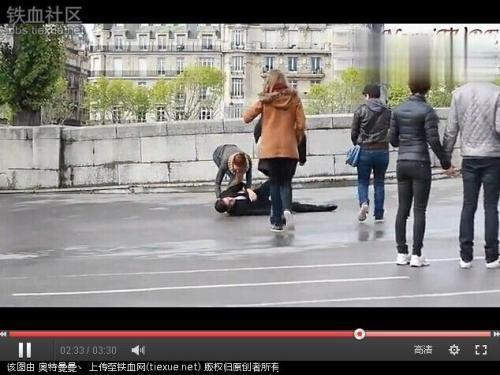Fall-Detected: (205, 172, 336, 225)
